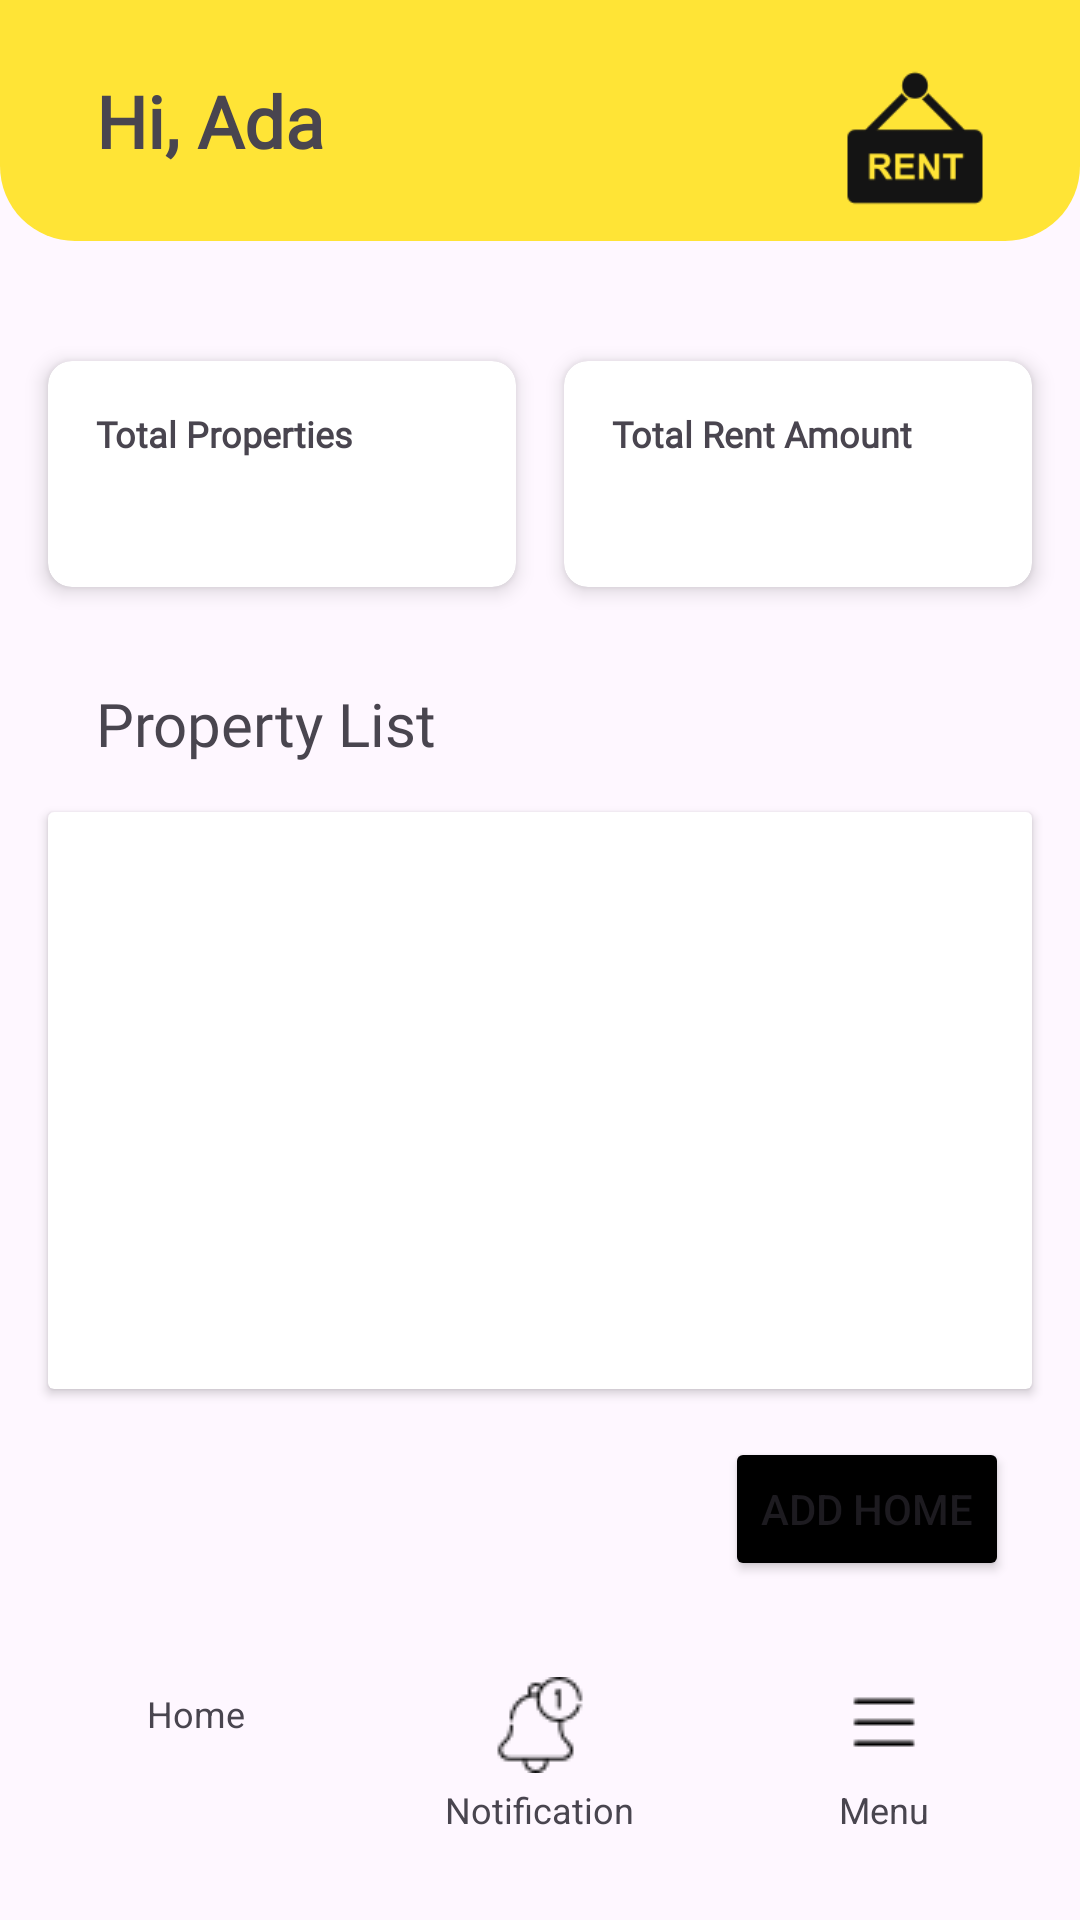

Named icons in this screenshot (1080px x 1920px) and their bounding boxes, (x1, y1, x2, y2):
sign: (847, 72, 983, 204)
